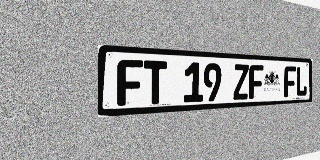1: (184, 62, 203, 103)
9: (204, 63, 221, 101)
F: (117, 59, 143, 106), (249, 65, 263, 99), (284, 66, 296, 97)
L: (296, 66, 307, 97)
T: (144, 60, 167, 105)
Z: (233, 64, 249, 100)
